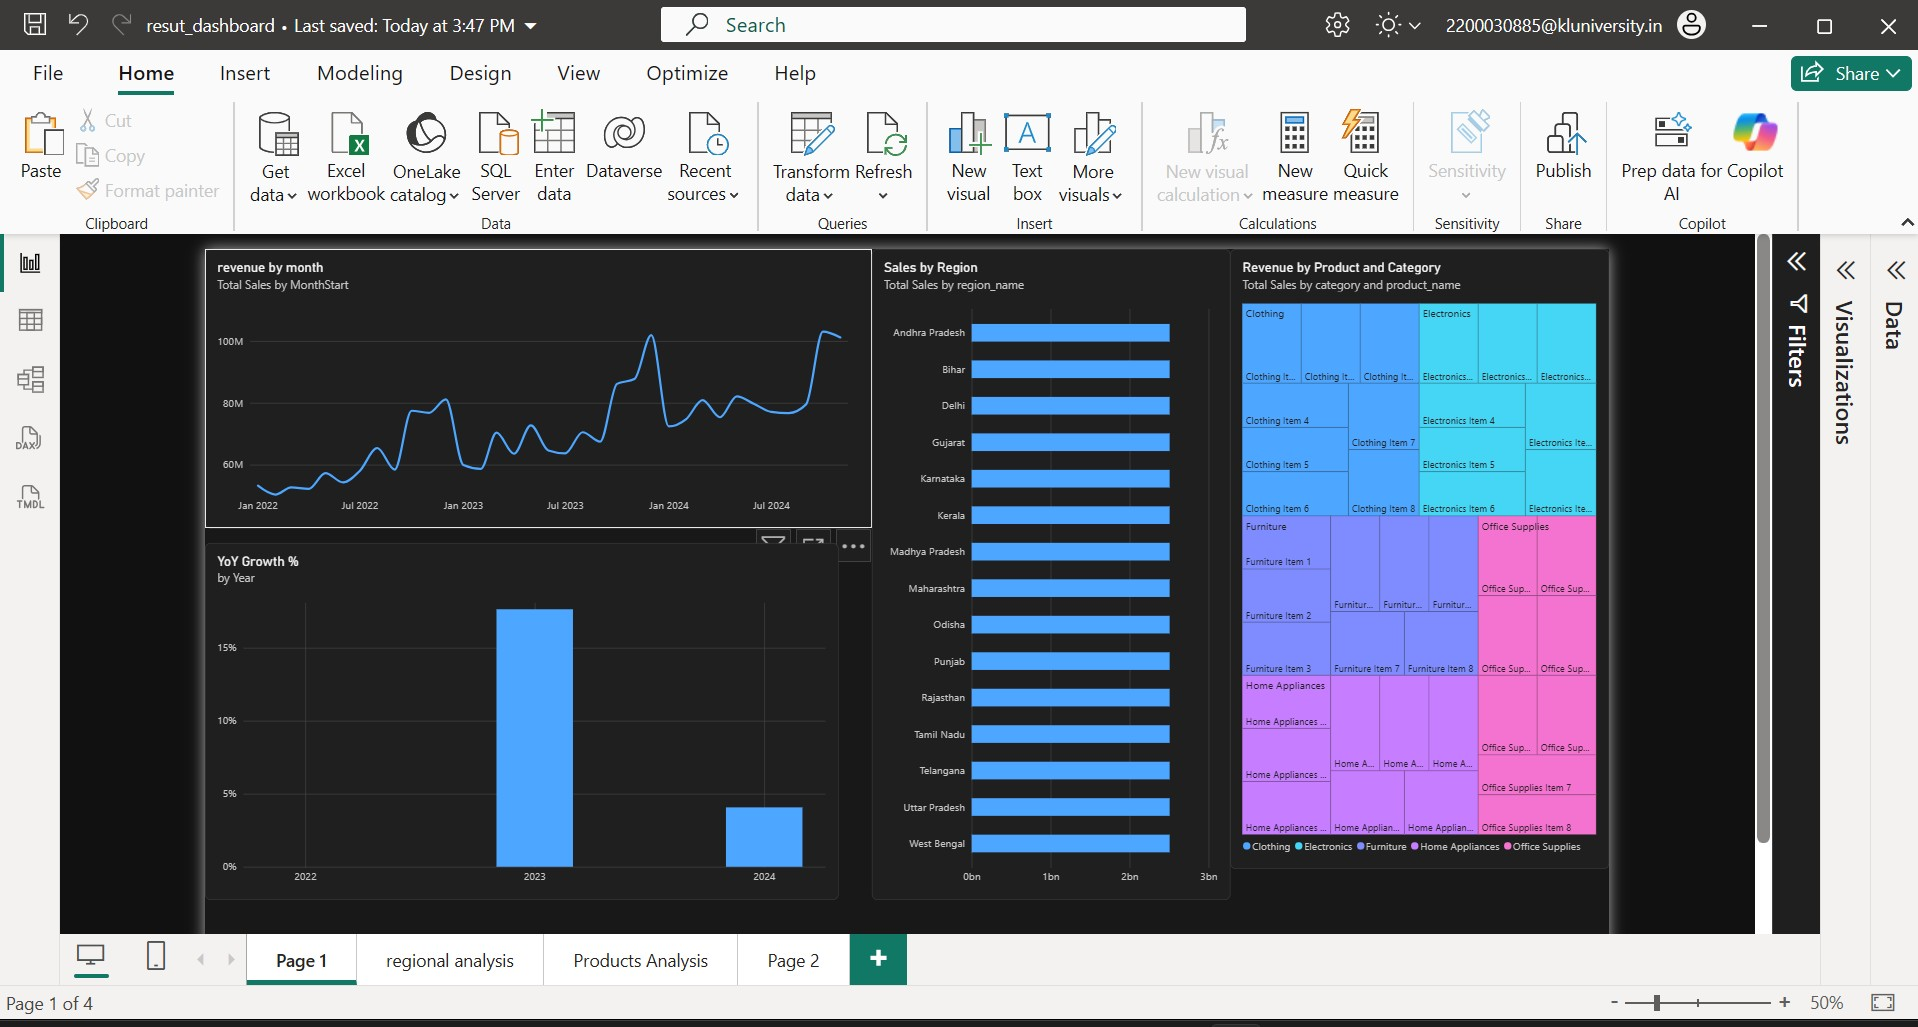

The dashboard page shown, as its layout file describes it:
{"tool":"powerbi","page":{"name":"Page 1","canvas":[1920,1080],"ordinal":0},"visuals":[{"type":"lineChart","title":"revenue by month","fields":{"Category":["Date.MonthStart"],"Y":["sales_db sales.Total Sales"]},"box":[0,0,912.5,382.5],"z":0},{"type":"clusteredColumnChart","fields":{"Category":["Date.Year"],"Y":["sales_db sales.YoY Growth %"]},"box":[0,402,866,488],"z":1000},{"type":"clusteredBarChart","title":"Sales by Region","fields":{"Category":["sales_db regions.region_name"],"Y":["sales_db sales.Total Sales"]},"box":[912,0,490,890],"z":2000},{"type":"treemap","title":"Revenue by Product and Category","fields":{"Details":["sales_db products.product_name"],"Group":["sales_db products.category"],"Values":["sales_db sales.Total Sales"]},"box":[1402,0,518,848],"z":3000}]}

Visuals, with their boxes on the page's 1920x1080 design canvas (x1, y1, x2, y2). These are canvas units, not pixel positions in the 1918x1027 screenshot, which may show the page scaled, cropped or inside an application window:
"revenue by month" lineChart: <region>0, 0, 912, 382</region>
clusteredColumnChart - Date.Year x sales_db sales.YoY Growth %: <region>0, 402, 866, 890</region>
"Sales by Region" clusteredBarChart: <region>912, 0, 1402, 890</region>
"Revenue by Product and Category" treemap: <region>1402, 0, 1920, 848</region>
